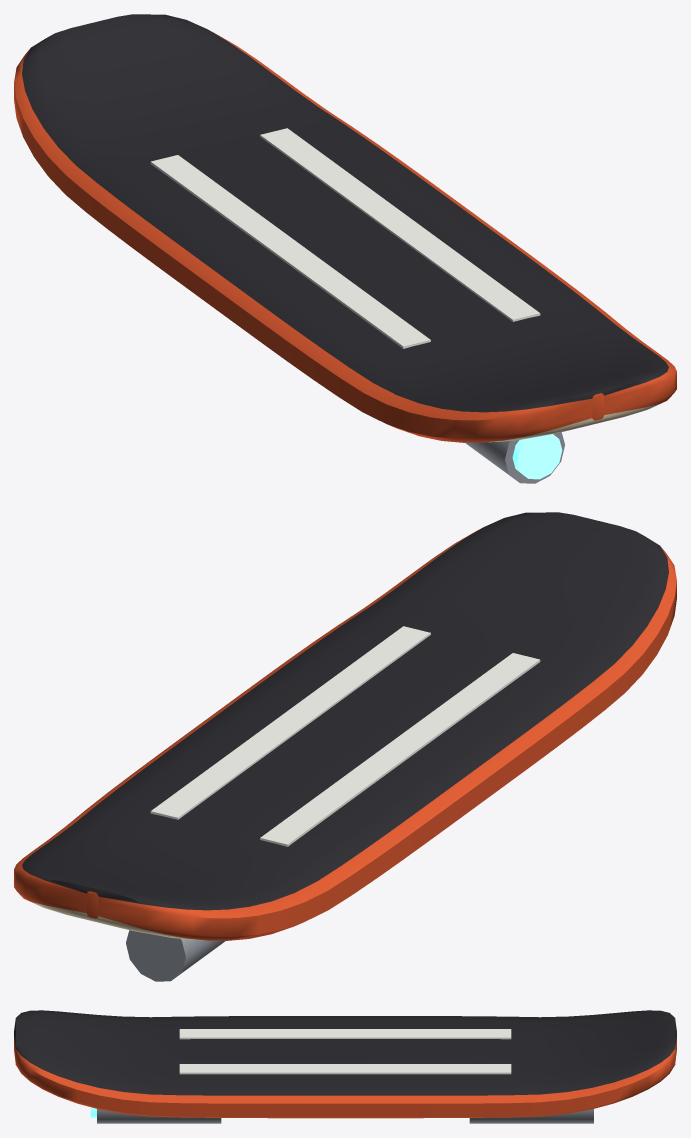
The model's file is hoverboard_classic.glb.
3 views of the same model, one above another, from view 1: azimuth 30°, elevation 25°; view 2: azimuth 150°, elevation 25°; view 3: azimuth 270°, elevation 25° (orthographic). The views are drawn at different scales.
Visible parts, largest first — view 1: Hoverboard_Deck, Hoverboard_Thrusters; view 2: Hoverboard_Deck, Hoverboard_Thrusters; view 3: Hoverboard_Deck, Hoverboard_Thrusters.
Part boxes in pixels (box(x1,y1,x2,y2)): Hoverboard_Deck: box(14, 14, 676, 442); Hoverboard_Thrusters: box(465, 432, 564, 483); Hoverboard_Deck: box(14, 512, 676, 940); Hoverboard_Thrusters: box(126, 930, 225, 981); Hoverboard_Deck: box(14, 1010, 676, 1118); Hoverboard_Thrusters: box(90, 1107, 593, 1123).
Bounding box in the file's own units: 0.4952 × 0.2419 × 1.6.
